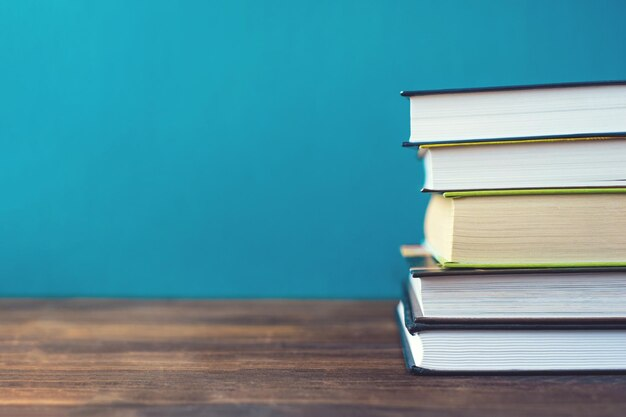book: (383, 70, 626, 390)
